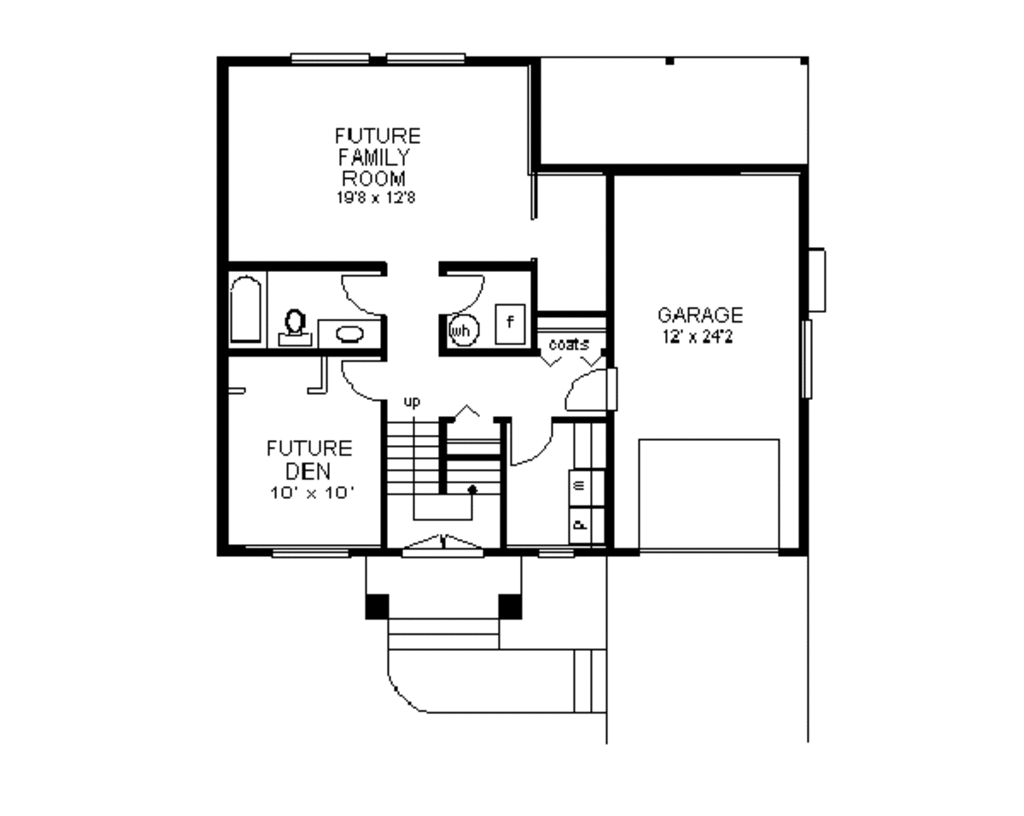door: (558, 356, 624, 417), (336, 260, 401, 319), (405, 526, 493, 569), (431, 267, 487, 315), (499, 419, 557, 465), (343, 355, 390, 405)
large_sink: (273, 302, 319, 351)
small_sink: (320, 319, 380, 351)
stairs: (391, 597, 626, 744), (382, 421, 499, 541)
tub: (216, 259, 271, 348)
window: (262, 540, 357, 565), (795, 316, 818, 402), (385, 44, 467, 68), (291, 49, 372, 68), (528, 539, 582, 564)
